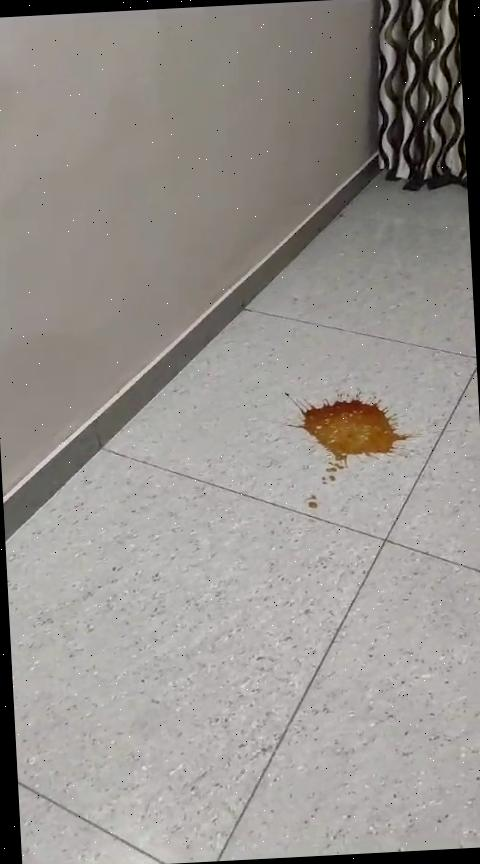dirty_floor: (287, 380, 414, 507)
